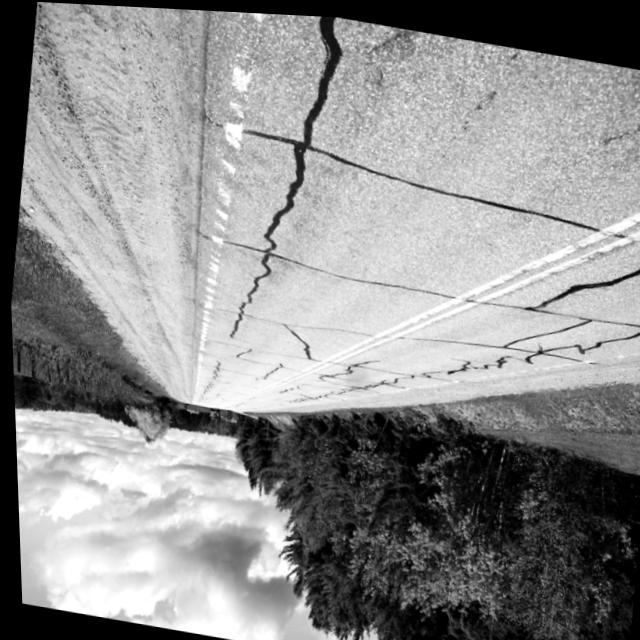cleat: (9, 2, 640, 526)
